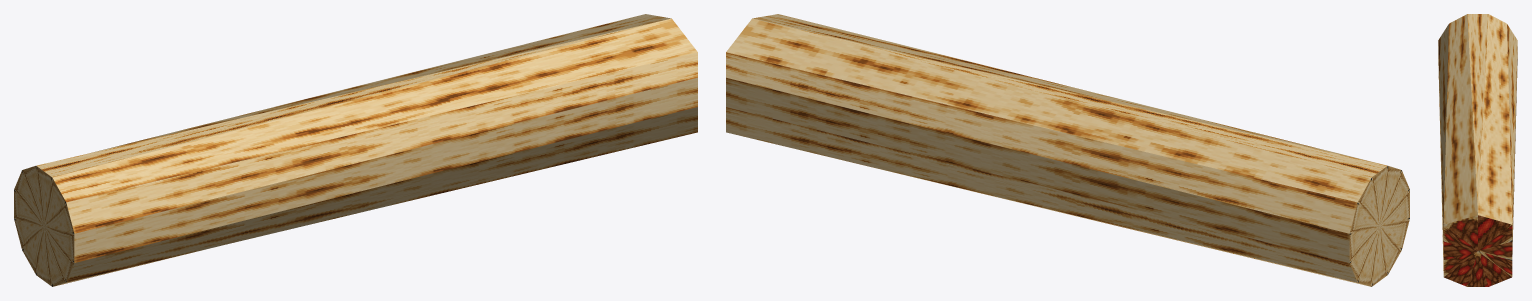
3 views of the same model, side by side, from view 1: azimuth 30°, elevation 25°; view 2: azimuth 150°, elevation 25°; view 3: azimuth 270°, elevation 25° (orthographic). The views are drawn at different scales.
Parts seen in each view (by area): view 1: cylinder; view 2: cylinder; view 3: cylinder.
Boxes of the visible parts, box(x1,y1,x2,y2) form: cylinder: box(14, 14, 697, 286); cylinder: box(726, 14, 1409, 286); cylinder: box(1438, 14, 1517, 286).
Bounding box in the file's own units: 18.75 × 3.13 × 3.12.
1 material, 1 textured.
